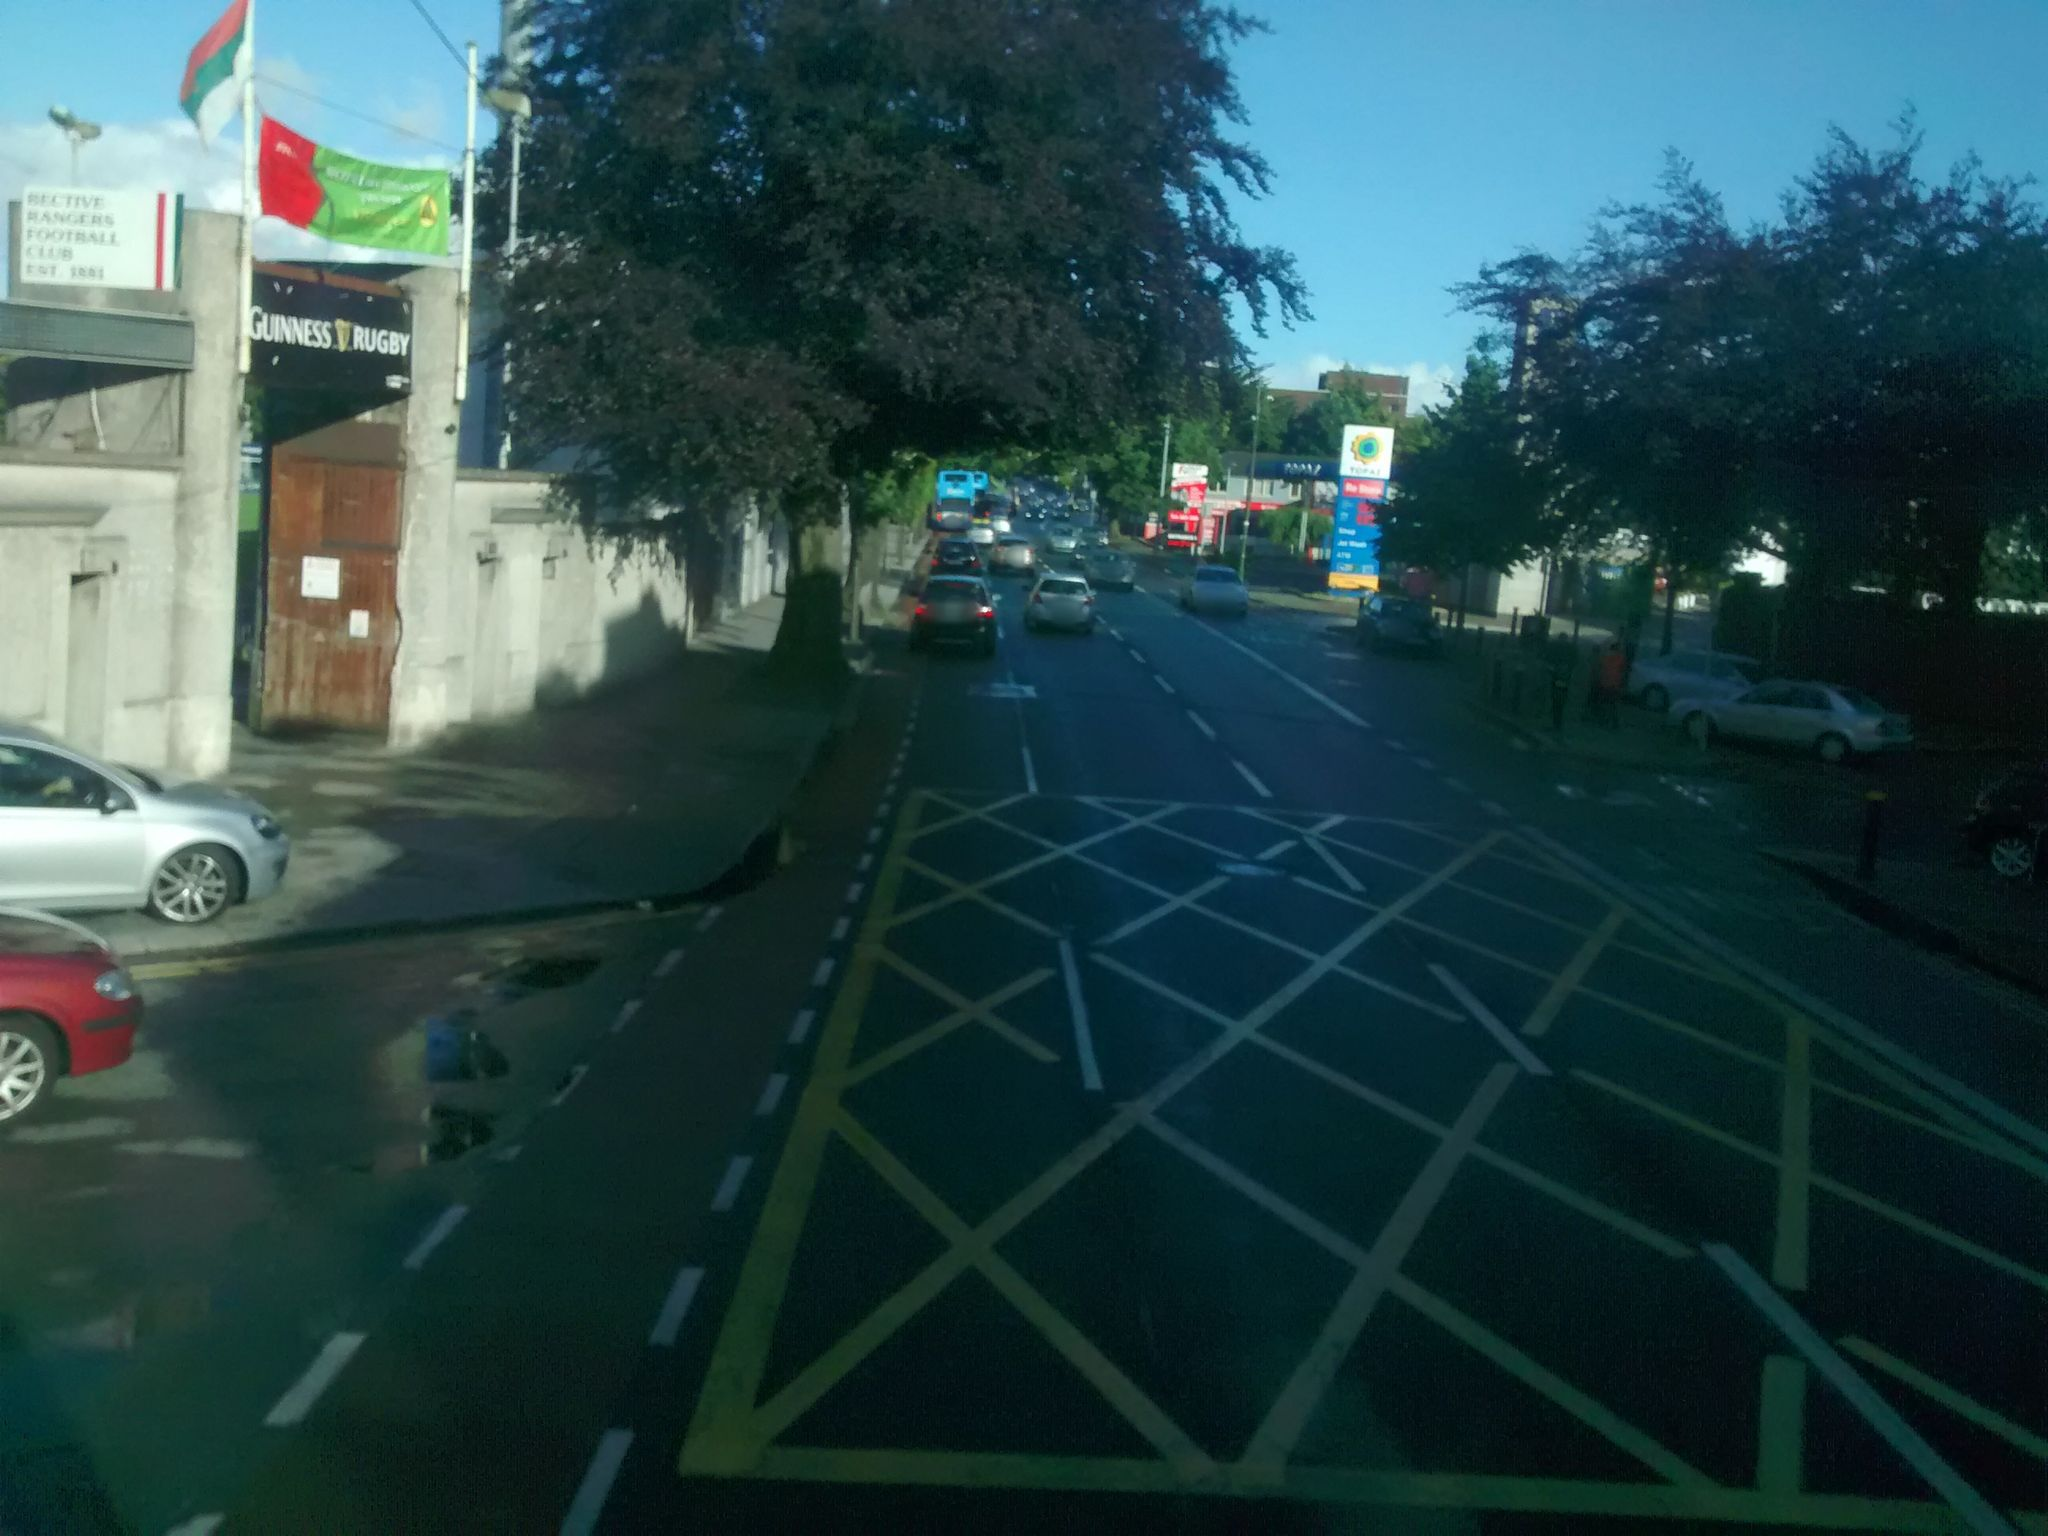vinyl banner: (248, 94, 474, 276)
